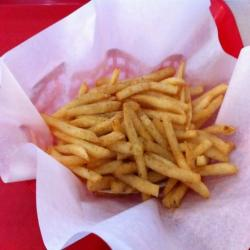fries: (47, 64, 234, 211)
